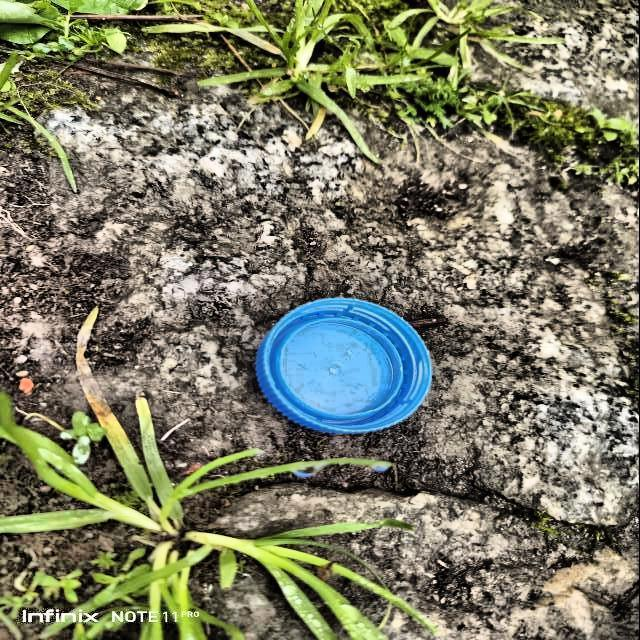plastic: (256, 298, 431, 433)
